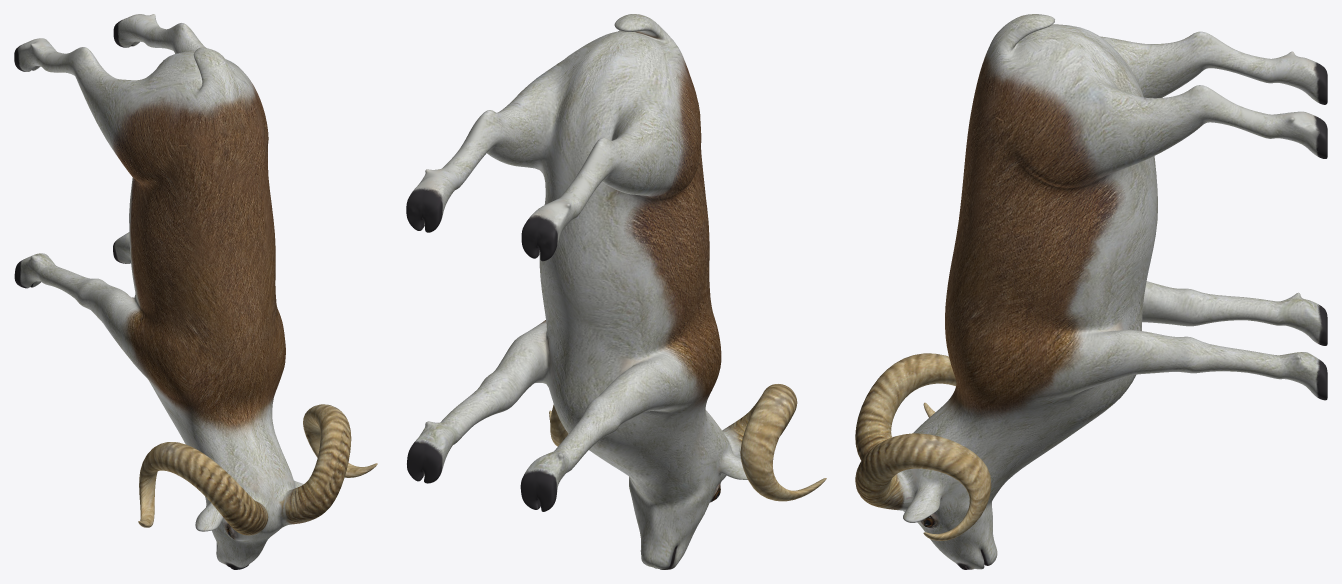
The model's file is sheep.obj.
3 renders of one model, left to right at view 1: azimuth 30°, elevation 25°; view 2: azimuth 150°, elevation 25°; view 3: azimuth 270°, elevation 25°, orthographic. The views are drawn at different scales.
Parts seen in each view (by area): view 1: Marco_Polo_Sheep; view 2: Marco_Polo_Sheep; view 3: Marco_Polo_Sheep.
Boxes of the visible parts, x1,y1,x2,y2 form: Marco_Polo_Sheep: (14, 14, 377, 569); Marco_Polo_Sheep: (406, 14, 826, 569); Marco_Polo_Sheep: (855, 14, 1327, 569).
Bounding box in the file's own units: 59.27 × 117 × 90.97.
Materials: 1 (1 with a texture image).
